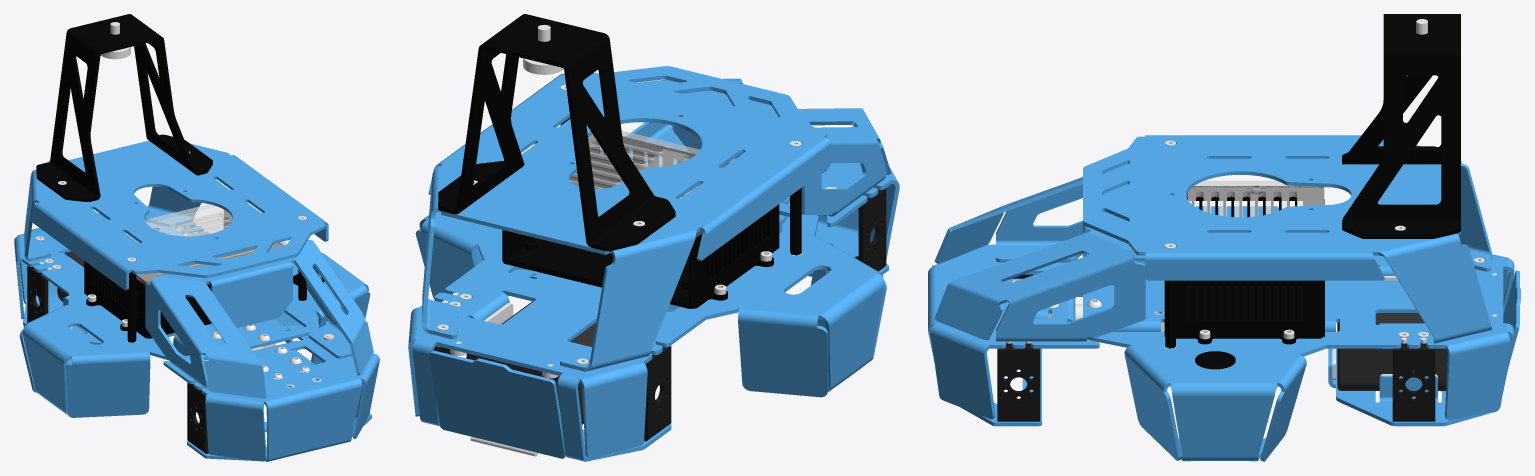
3 views of the same model, side by side, from view 1: azimuth 30°, elevation 25°; view 2: azimuth 150°, elevation 25°; view 3: azimuth 270°, elevation 25° (orthographic). The views are drawn at different scales.
Visible parts, largest first — view 1: M3____ƿ_1 (×2), M3____ƿ_9_2_, M3____ƿ_2_1_, M3______2, ___ߴ______ʮ____۰__ͷľ_ݶ______1, Բ__2, _г_--__1, _г_--__6 (×2); view 2: M3____ƿ_1 (×2), M3____ƿ_9_2_, ___ߴ______ʮ____۰__ͷľ_ݶ______1, Բ__2 (×2), _̨--__3, M3____ƿ_2_1_, _г_--__6 (×2), M3______2, _г_--__1, __ת1; view 3: M3____ƿ_1 (×2), M3____ƿ_9_2_, M3____ƿ_2_1_, ___ߴ______ʮ____۰__ͷľ_ݶ______1, Բ__2 (×2), M3______2, _г_--__6 (×2), _г_--__1, _̨--__3, ______1.
Part boxes in pixels (x1,y1,x2,y2): M3____ƿ_1 (×2): [24, 140, 328, 342]; M3____ƿ_9_2_: [14, 206, 370, 417]; M3____ƿ_2_1_: [145, 239, 373, 398]; M3______2: [163, 321, 379, 461]; ___ߴ______ʮ____۰__ͷľ_ݶ______1: [36, 14, 212, 201]; Բ__2: [84, 210, 283, 338]; _г_--__1: [124, 204, 286, 284]; _г_--__6 (×2): [27, 266, 208, 453]; M3____ƿ_1 (×2): [421, 66, 830, 371]; M3____ƿ_9_2_: [408, 190, 886, 461]; ___ߴ______ʮ____۰__ͷľ_ݶ______1: [438, 14, 675, 251]; Բ__2 (×2): [466, 134, 779, 424]; _̨--__3: [429, 350, 565, 458]; M3____ƿ_2_1_: [600, 78, 891, 216]; _г_--__6 (×2): [644, 188, 886, 441]; M3______2: [672, 125, 899, 276]; _г_--__1: [569, 130, 735, 237]; __ת1: [523, 25, 563, 74]; M3____ƿ_1 (×2): [1083, 135, 1491, 348]; M3____ƿ_9_2_: [1083, 206, 1514, 461]; M3____ƿ_2_1_: [934, 164, 1145, 341]; ___ߴ______ʮ____۰__ͷľ_ݶ______1: [1342, 14, 1460, 238]; Բ__2 (×2): [1164, 186, 1447, 390]; M3______2: [928, 244, 1099, 426]; _г_--__6 (×2): [997, 343, 1435, 421]; _г_--__1: [1186, 180, 1324, 217]; _̨--__3: [1503, 270, 1520, 364]; ______1: [1195, 351, 1235, 369].
Size of the model in its own units: 224 by 305 by 204.
